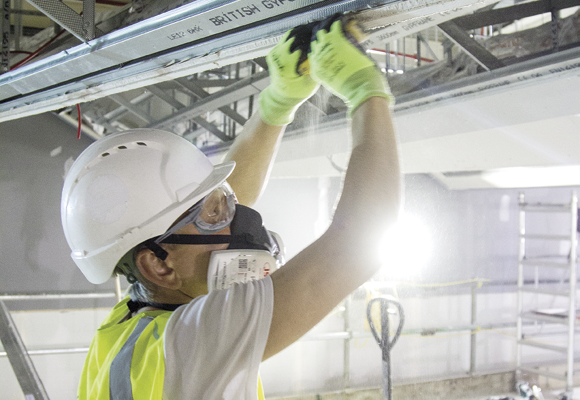Hard Hat: (72, 130, 230, 276)
High Viz: (83, 299, 193, 400)
